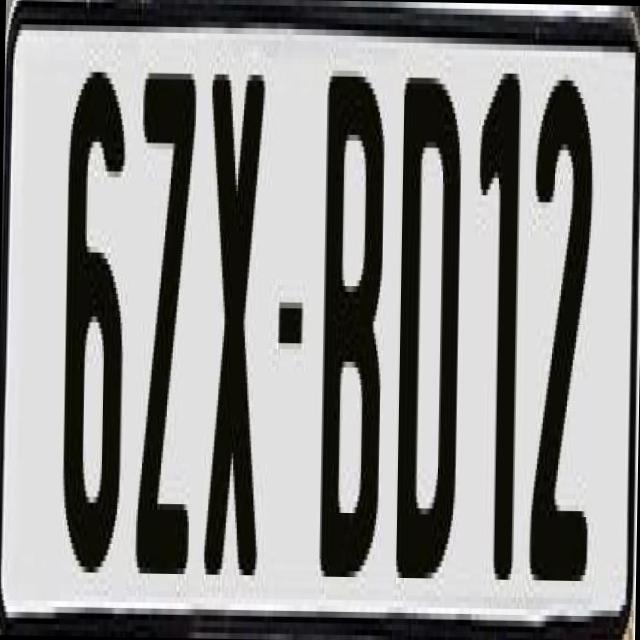1: (469, 61, 520, 574)
2: (528, 68, 595, 592)
6: (58, 60, 128, 572)
B: (314, 64, 384, 577)
D: (391, 65, 465, 596)
X: (204, 61, 274, 598)
Z: (133, 66, 200, 604)
